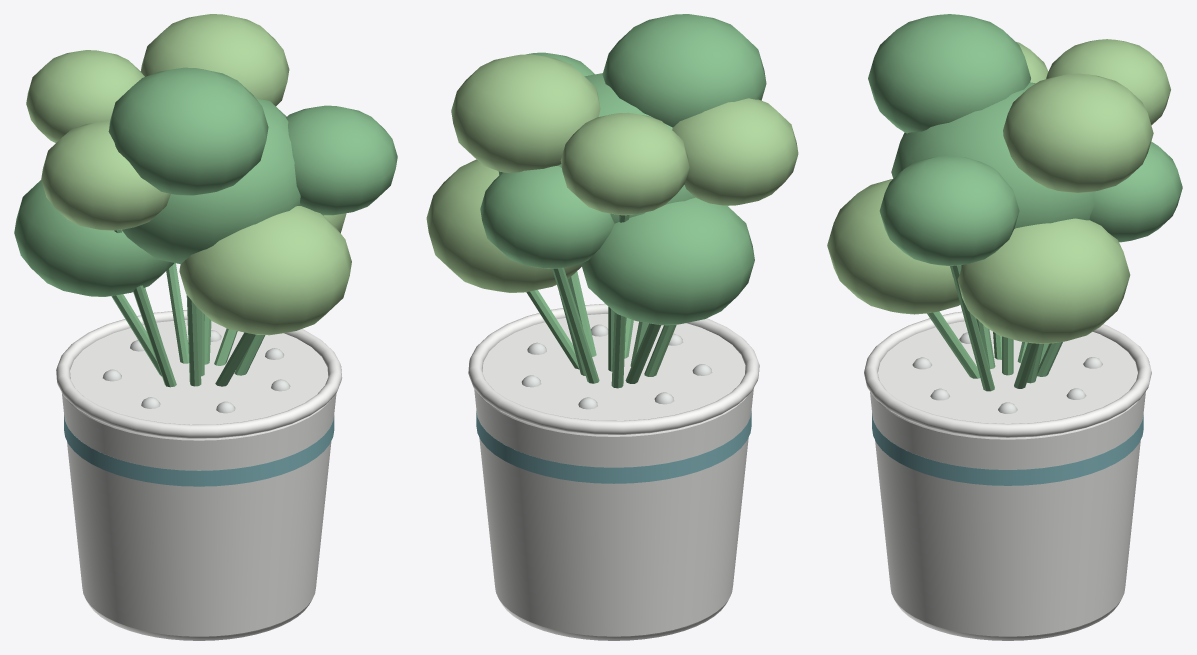
File: plant_pot.glb
3 views of the same model, side by side, from view 1: azimuth 30°, elevation 25°; view 2: azimuth 150°, elevation 25°; view 3: azimuth 270°, elevation 25° (orthographic).
Visible parts, largest first — view 1: pot_white_painted, plant_leaves_leaf_green, plant_leaves_leaf_light, pot_rim_white_painted, plant_stems_leaf_green, pot_band_teal, pebbles_warm_panel; view 2: pot_white_painted, plant_leaves_leaf_light, plant_leaves_leaf_green, pot_rim_white_painted, plant_stems_leaf_green, pot_band_teal, pebbles_warm_panel; view 3: pot_white_painted, plant_leaves_leaf_light, plant_leaves_leaf_green, pot_rim_white_painted, plant_stems_leaf_green, pot_band_teal, pebbles_warm_panel.
Boxes of the visible parts, box(x1,y1,x2,y2) form: pot_white_painted: box(61, 320, 336, 640); plant_leaves_leaf_green: box(14, 67, 397, 296); plant_leaves_leaf_light: box(26, 14, 351, 335); pot_rim_white_painted: box(56, 310, 342, 438); plant_stems_leaf_green: box(111, 215, 323, 387); pot_band_teal: box(64, 415, 334, 486); pebbles_warm_panel: box(103, 330, 290, 413); pot_white_painted: box(474, 314, 753, 640); plant_leaves_leaf_light: box(426, 54, 798, 292); plant_leaves_leaf_green: box(480, 14, 766, 325); pot_rim_white_painted: box(468, 303, 759, 434); plant_stems_leaf_green: box(526, 215, 676, 388); pot_band_teal: box(476, 410, 751, 483); pebbles_warm_panel: box(521, 324, 712, 409); pot_white_painted: box(870, 321, 1145, 640); plant_leaves_leaf_light: box(827, 39, 1170, 343); plant_leaves_leaf_green: box(868, 14, 1182, 265); pot_rim_white_painted: box(864, 311, 1151, 437); plant_stems_leaf_green: box(927, 265, 1062, 391); pot_band_teal: box(872, 413, 1143, 485); pebbles_warm_panel: box(912, 332, 1102, 413).
Bounding box in the file's own units: 0.64 × 1.04 × 0.61.
